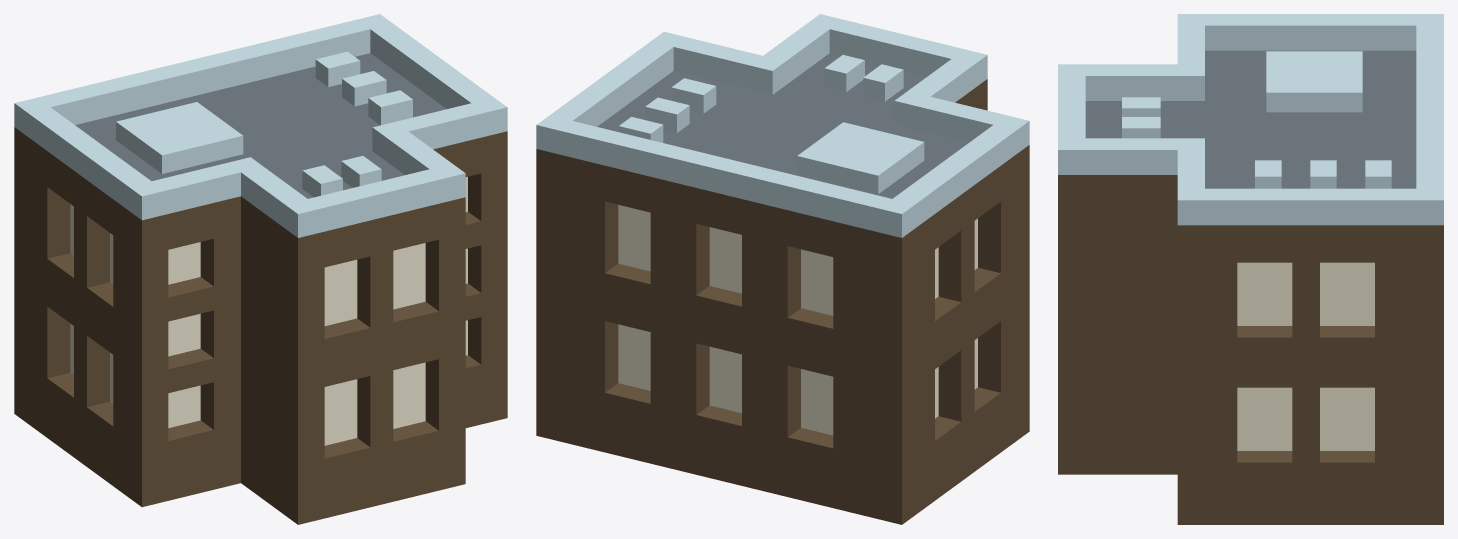
Rendered from Building_12_Extra (Brown).glb.
3 renders of one model, left to right at view 1: azimuth 30°, elevation 25°; view 2: azimuth 150°, elevation 25°; view 3: azimuth 270°, elevation 25°, orthographic. The views are drawn at different scales.
Parts seen in each view (by area): view 1: Building_12_Extra (Brown); view 2: Building_12_Extra (Brown); view 3: Building_12_Extra (Brown).
Part boxes in pixels (x1,y1,x2,y2): Building_12_Extra (Brown): (14, 14, 507, 524); Building_12_Extra (Brown): (536, 14, 1029, 524); Building_12_Extra (Brown): (1058, 14, 1443, 524).
Bounding box in the file's own units: 1.6 × 1.3 × 1.4.
Materials: 1 (1 with a texture image).
